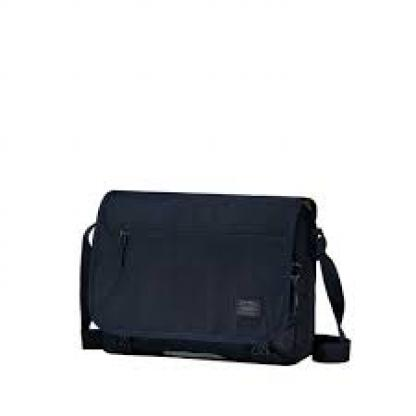morral: (72, 170, 374, 375)
